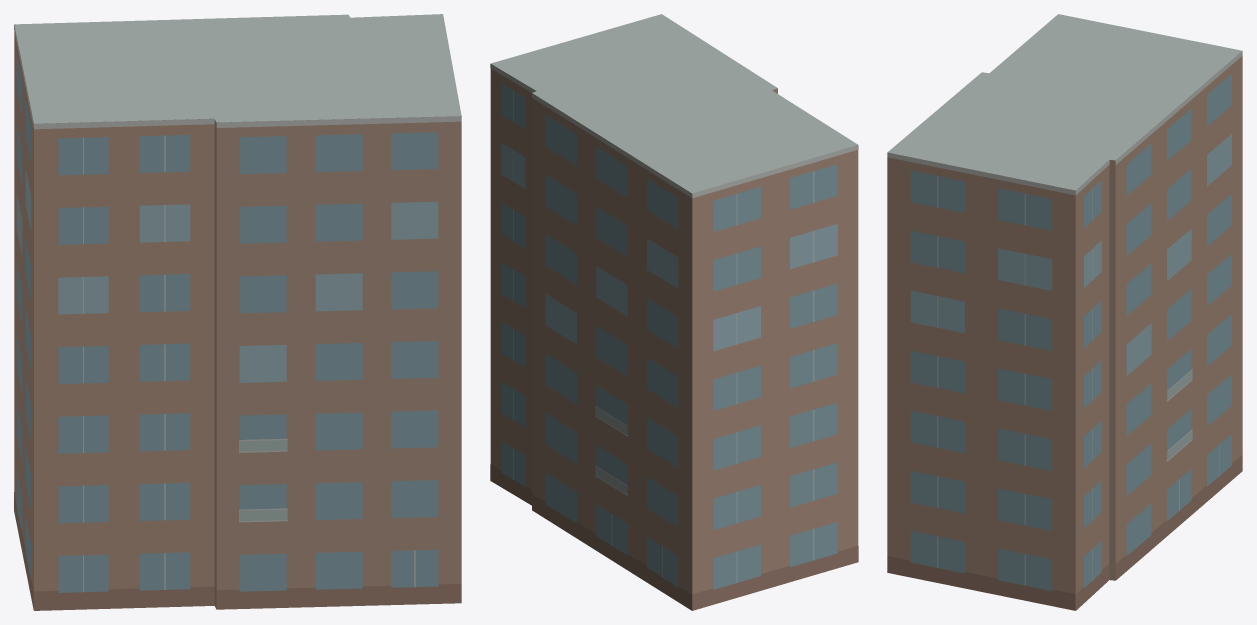
File: survey-upis-32633840.glb
3 views of the same model, side by side, from view 1: azimuth 30°, elevation 25°; view 2: azimuth 150°, elevation 25°; view 3: azimuth 270°, elevation 25° (orthographic). The views are drawn at different scales.
Parts seen in each view (by area): view 1: survey-upis-32633840.tmp; view 2: survey-upis-32633840.tmp; view 3: survey-upis-32633840.tmp.
Part boxes in pixels (bbox=[...]): survey-upis-32633840.tmp: bbox=[14, 14, 461, 610]; survey-upis-32633840.tmp: bbox=[490, 14, 858, 610]; survey-upis-32633840.tmp: bbox=[887, 14, 1242, 610].
Size of the model in its own units: 19.24 by 21.35 by 16.37.
